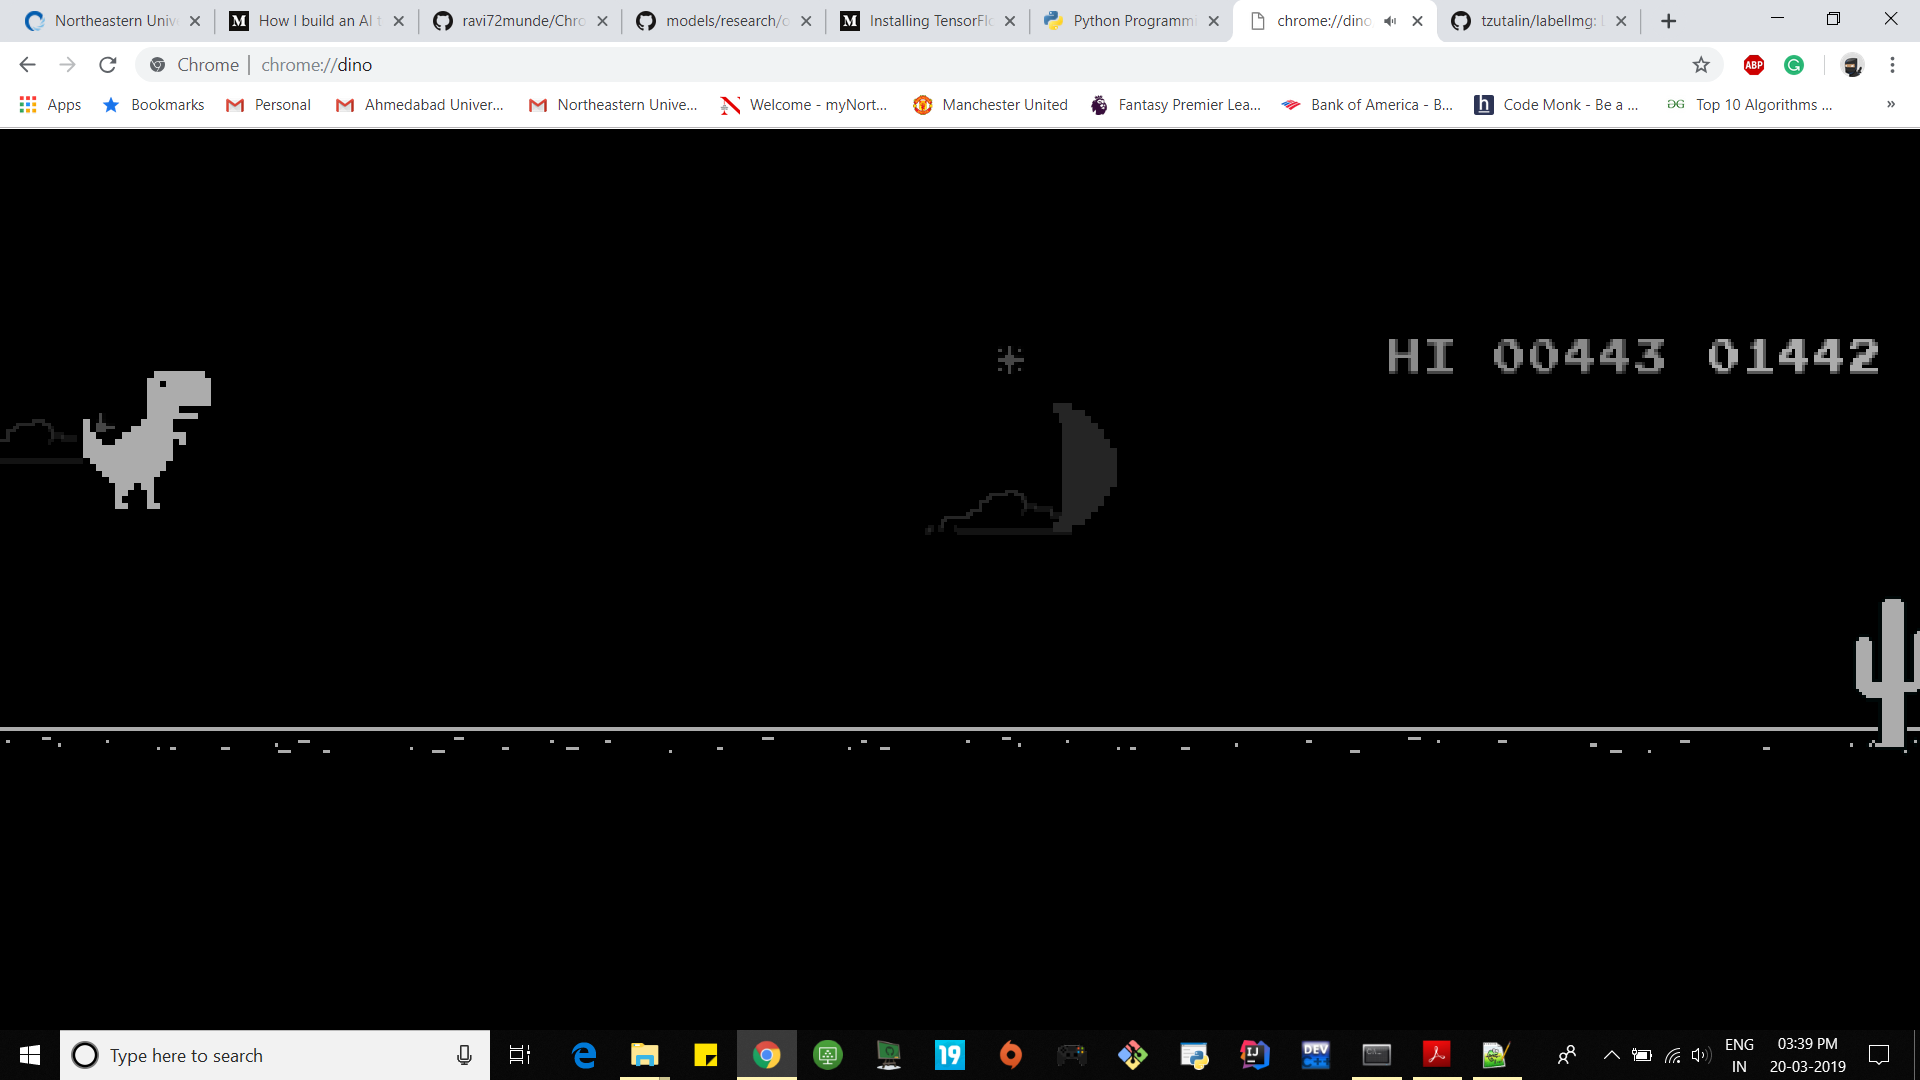cactus-1: (1853, 597, 1920, 750)
dino: (80, 371, 211, 513)
